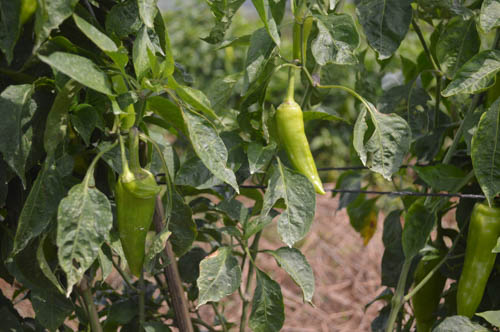ChiliPepper: (276, 107, 328, 194), (457, 202, 496, 317), (117, 175, 158, 277), (409, 252, 449, 324)
